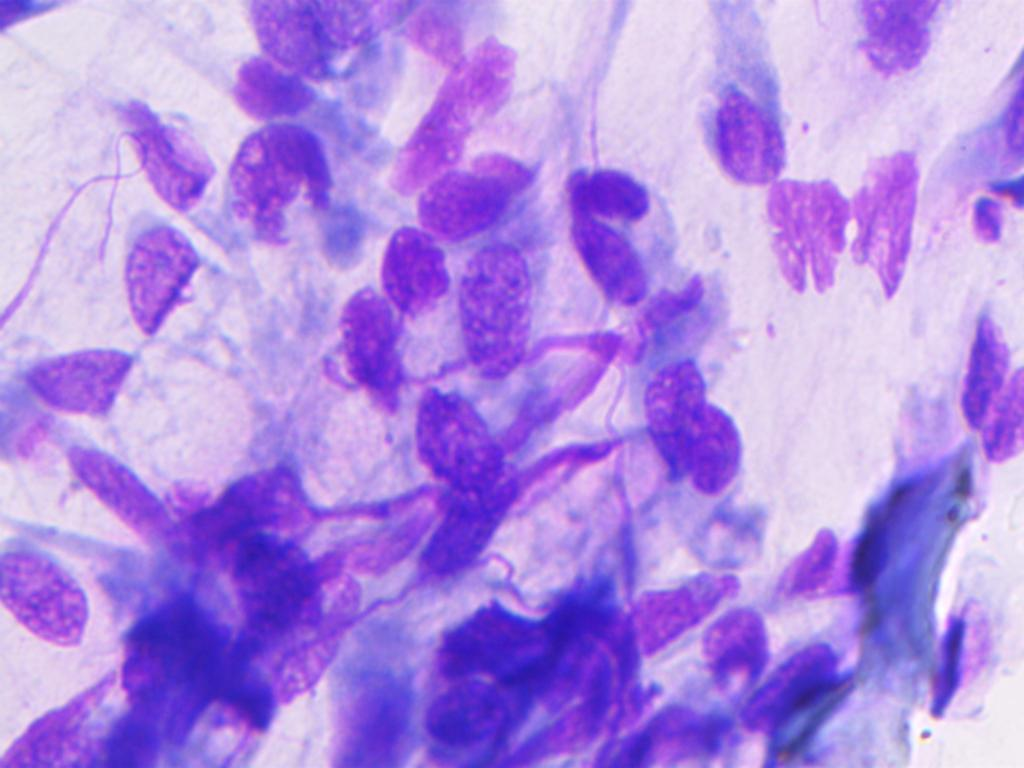artifact: (853, 442, 997, 722), (112, 579, 316, 768), (443, 556, 652, 707), (380, 30, 550, 191), (838, 142, 931, 305), (54, 433, 179, 549), (757, 168, 853, 297), (621, 568, 739, 661), (841, 0, 958, 88), (956, 308, 1024, 459)
epithelial: (623, 358, 753, 508), (552, 158, 665, 323), (0, 518, 111, 660), (239, 1, 451, 75), (405, 136, 546, 247), (224, 117, 337, 251), (391, 390, 512, 515), (103, 97, 220, 224), (329, 283, 420, 411), (457, 236, 535, 384), (696, 77, 796, 188), (686, 612, 788, 708), (222, 49, 326, 130), (379, 219, 448, 320)
goblet_cell: (78, 209, 286, 365), (18, 346, 252, 472)
metaplastic: (227, 533, 324, 643), (408, 672, 517, 751)
